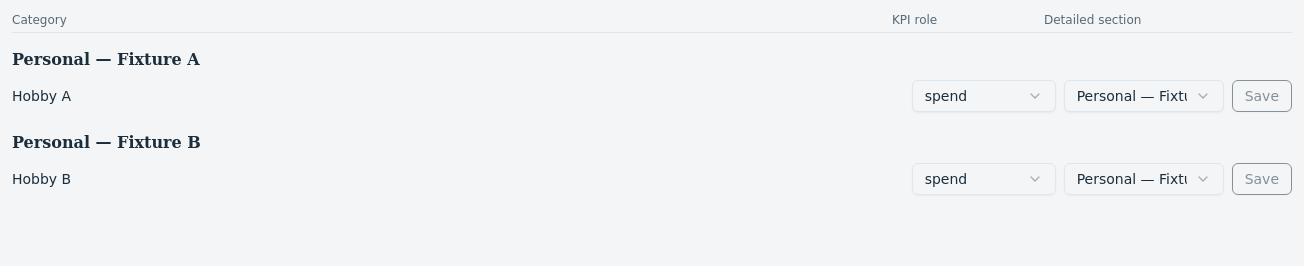
CategoryMappingsEditor — US2/T046 config-driven partner labels › detailed-section dropdown options use config labels
expect the heading "Personal — Fixture A" is shown: met, box [12,50,200,69]
Click the dropdown labelled "Personal — Fixture A".
click(1144, 96)  # box [1064,80,1224,112]
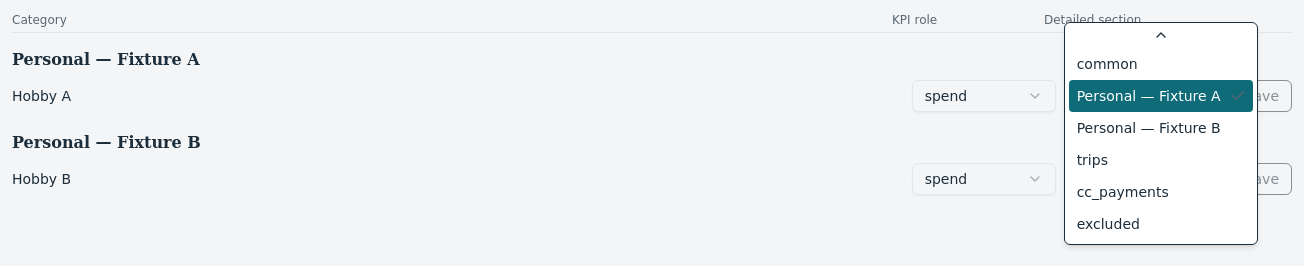
expect the list is shown: met, box [1064,22,1258,245]
